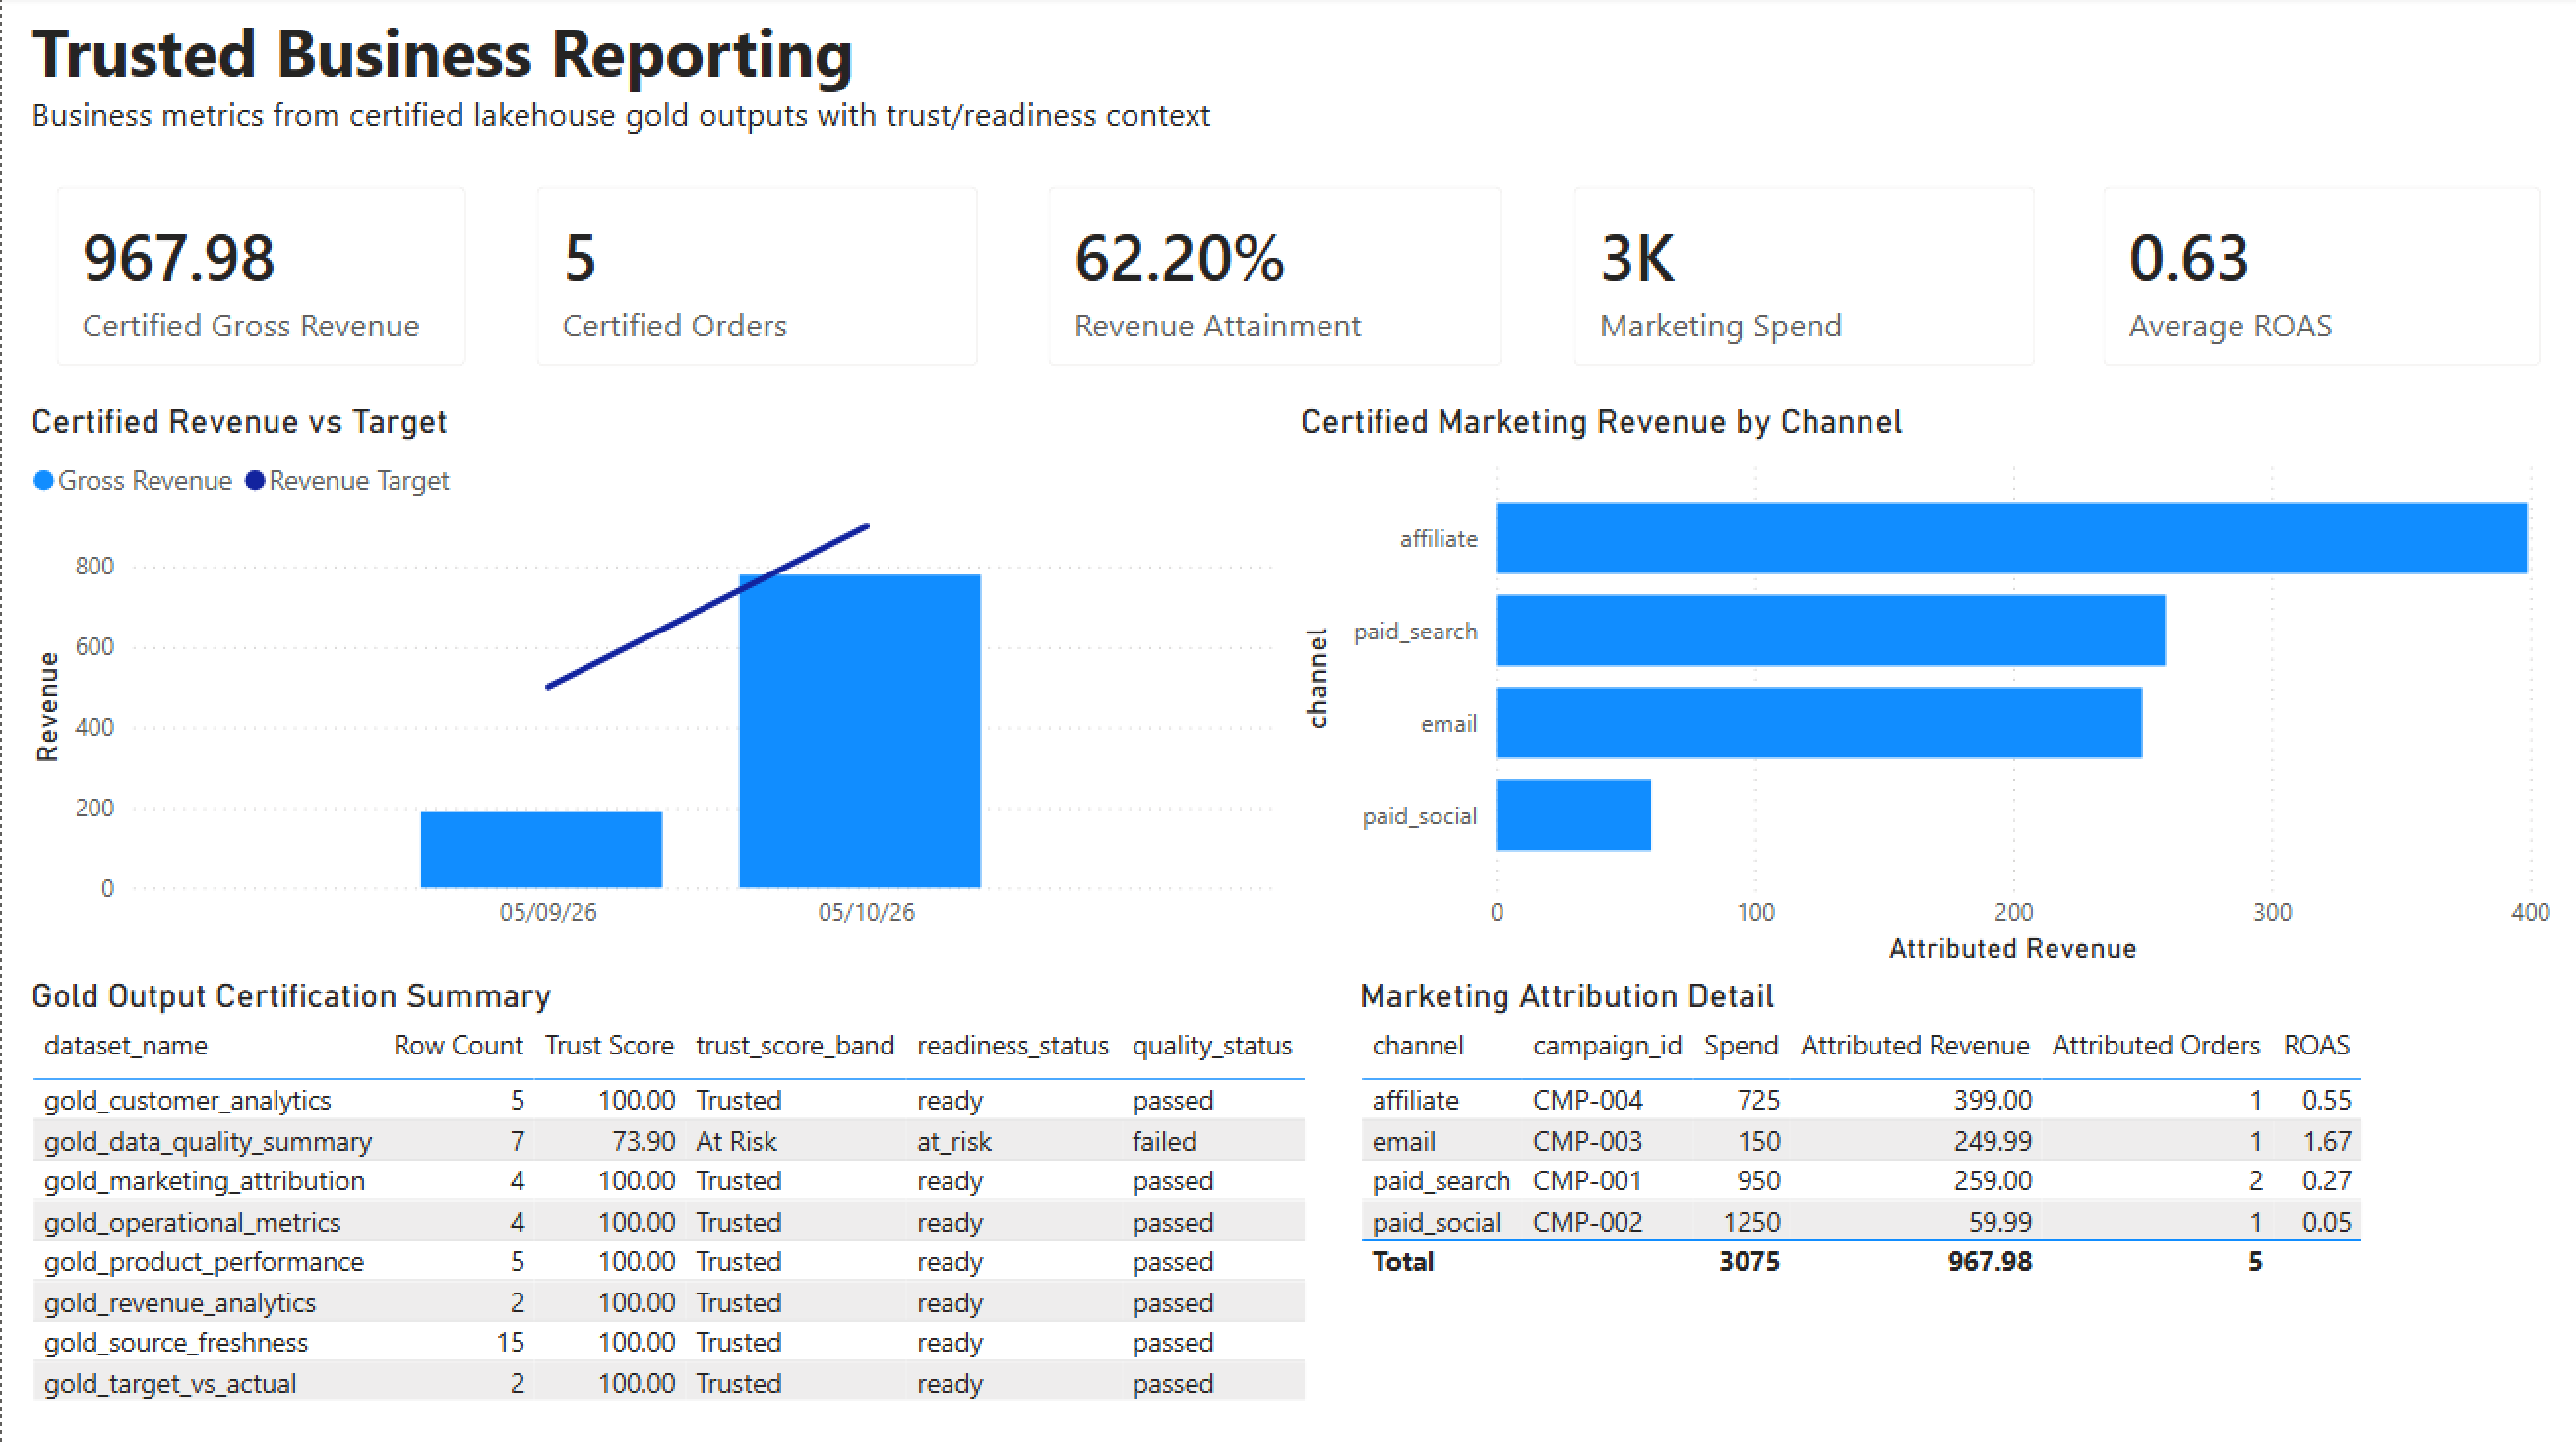

The dashboard page shown, as its layout file describes it:
{"tool":"powerbi","page":{"name":"Trusted Business Reporting","canvas":[1280,720],"ordinal":1},"visuals":[{"type":"textbox","box":[9.5,0,1270.5,77.4],"z":0},{"type":"cardVisual","fields":{"Data":["Sum(gold_revenue_analytics.gross_revenue)"]},"box":[9.5,77.4,238.6,124.1],"z":1000},{"type":"cardVisual","fields":{"Data":["Sum(gold_revenue_analytics.completed_orders)"]},"box":[248.2,77.4,254.5,124.1],"z":2000},{"type":"cardVisual","fields":{"Data":["Sum(gold_marketing_attribution.spend)"]},"box":[763.5,77.4,264.1,124.1],"z":3000},{"type":"cardVisual","fields":{"Data":["Avg(gold_revenue_analytics.revenue_attainment)"]},"box":[502.7,77.4,260.9,124.1],"z":4000},{"type":"cardVisual","fields":{"Data":["Avg(gold_marketing_attribution.roas)"]},"box":[1027.6,77.4,252.4,124.1],"z":5000},{"type":"lineClusteredColumnComboChart","title":"Certified Revenue vs Target","fields":{"Category":["gold_revenue_analytics.order_date"],"Y":["Sum(gold_revenue_analytics.gross_revenue)"],"Y2":["Sum(gold_revenue_analytics.revenue_target)"]},"box":[9.5,201.5,631,285.3],"z":6000},{"type":"clusteredBarChart","title":"Certified Marketing Revenue by Channel","fields":{"Category":["gold_marketing_attribution.channel"],"Y":["Sum(gold_marketing_attribution.attributed_revenue)"]},"box":[640.5,201.5,631,285.3],"z":7000},{"type":"tableEx","title":"Gold Output Certification Summary","fields":{"Values":["gold_mart_summary.dataset_name","gold_mart_summary.row_count","gold_mart_summary.trust_score_overall","gold_mart_summary.trust_score_band","gold_mart_summary.readiness_status","gold_mart_summary.quality_status"]},"box":[9.8,487.2,660.3,232.8],"z":8000},{"type":"tableEx","title":"Marketing Attribution Detail","fields":{"Values":["gold_marketing_attribution.channel","gold_marketing_attribution.campaign_id","Sum(gold_marketing_attribution.spend)","Sum(gold_marketing_attribution.attributed_revenue)","Sum(gold_marketing_attribution.attributed_orders)","gold_marketing_attribution.roas"]},"box":[670.1,487.2,609.5,232.8],"z":9000}]}

Visuals, with their boxes in screenshot pixels (x1, y1, x2, y2), scaled from the page's 1280x720 canvas onto the 2576x1444 screenshot:
textbox: [left=19, top=0, right=2575, bottom=155]
cardVisual - Sum(gold_revenue_analytics.gross_revenue): [left=19, top=155, right=499, bottom=404]
cardVisual - Sum(gold_revenue_analytics.completed_orders): [left=500, top=155, right=1012, bottom=404]
cardVisual - Sum(gold_marketing_attribution.spend): [left=1537, top=155, right=2068, bottom=404]
cardVisual - Avg(gold_revenue_analytics.revenue_attainment): [left=1012, top=155, right=1537, bottom=404]
cardVisual - Avg(gold_marketing_attribution.roas): [left=2068, top=155, right=2575, bottom=404]
"Certified Revenue vs Target" lineClusteredColumnComboChart: [left=19, top=404, right=1289, bottom=977]
"Certified Marketing Revenue by Channel" clusteredBarChart: [left=1289, top=404, right=2559, bottom=977]
"Gold Output Certification Summary" tableEx: [left=20, top=977, right=1349, bottom=1443]
"Marketing Attribution Detail" tableEx: [left=1349, top=977, right=2575, bottom=1443]
